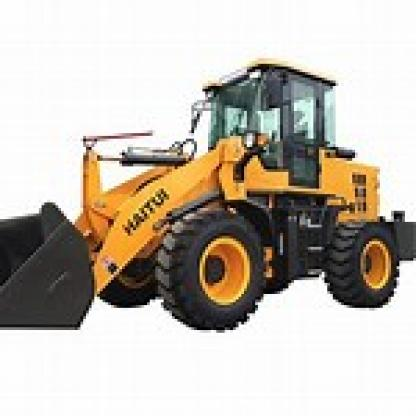bull_dozer/loader/grader: (0, 44, 413, 333)
